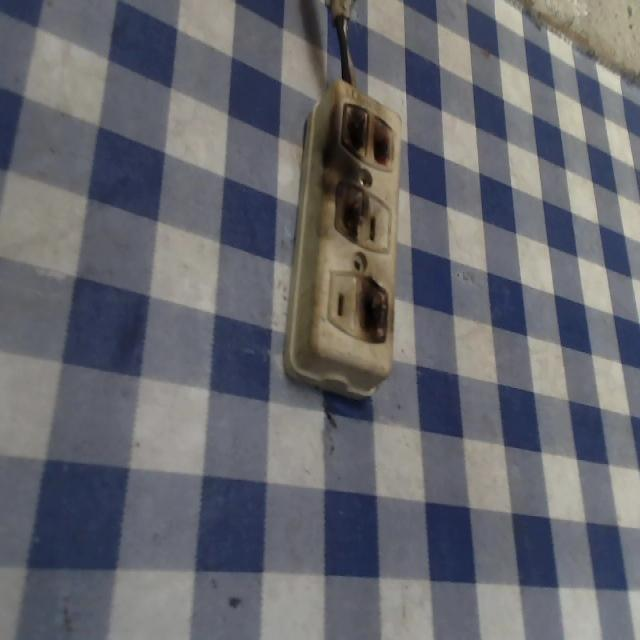-: (337, 99, 400, 169), (356, 272, 390, 341), (330, 183, 366, 241)
